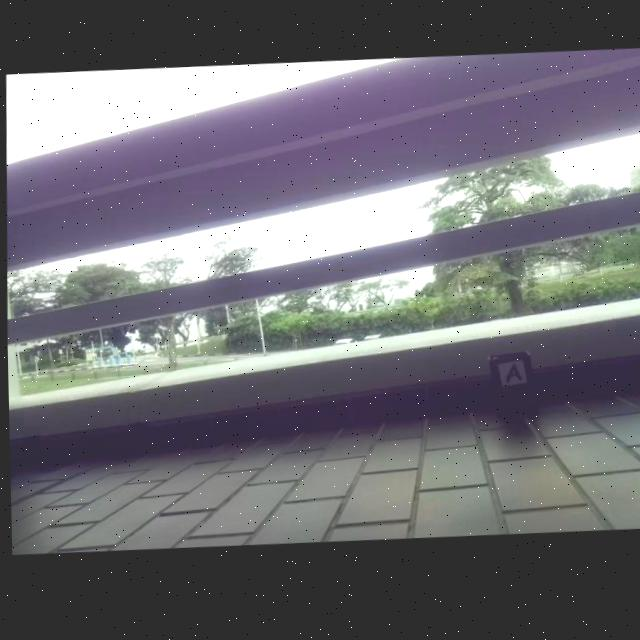A: (504, 370, 520, 389)
